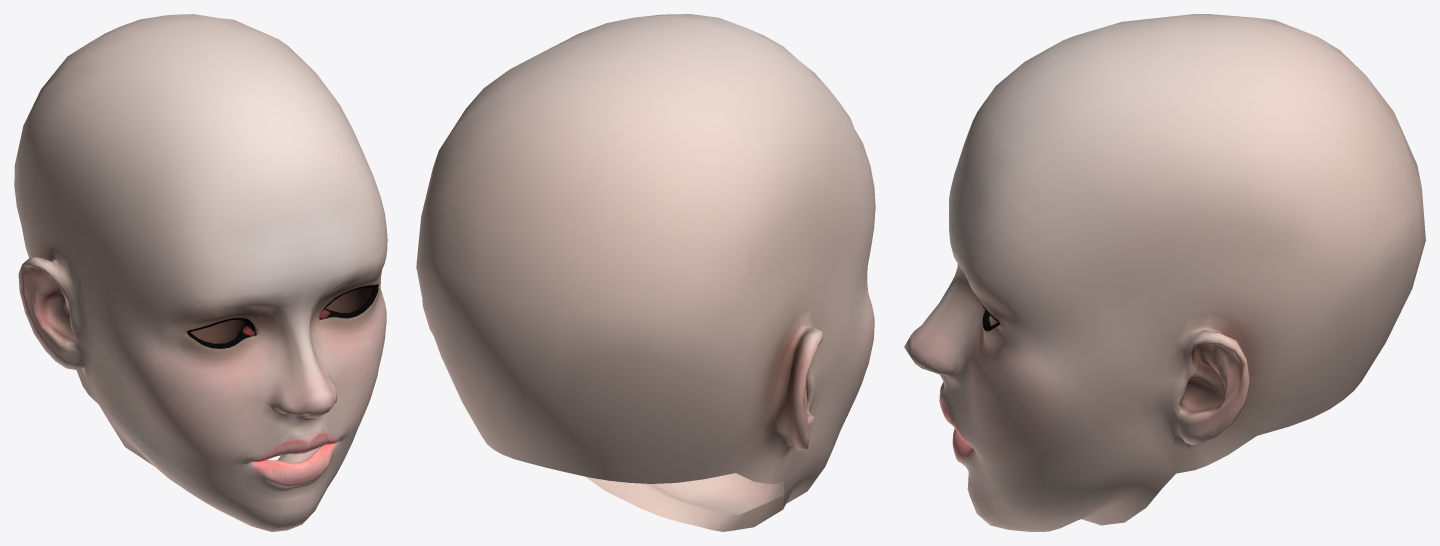
The model's file is MyMaleHead substance painter.fbx.
3 views of the same model, side by side, from view 1: azimuth 30°, elevation 25°; view 2: azimuth 150°, elevation 25°; view 3: azimuth 270°, elevation 25° (orthographic). The views are drawn at different scales.
Parts seen in each view (by area): view 1: MyHumanHead.004; view 2: MyHumanHead.004; view 3: MyHumanHead.004.
Boxes of the visible parts, bbox=[...] form: MyHumanHead.004: bbox=[14, 14, 387, 531]; MyHumanHead.004: bbox=[416, 14, 875, 531]; MyHumanHead.004: bbox=[904, 14, 1425, 531].
Bounding box in the file's own units: 18.12 × 23.57 × 22.77.
1 material, 1 textured.
